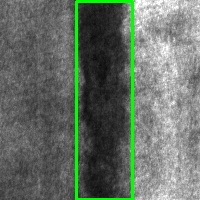patches: (76, 1, 132, 199)
